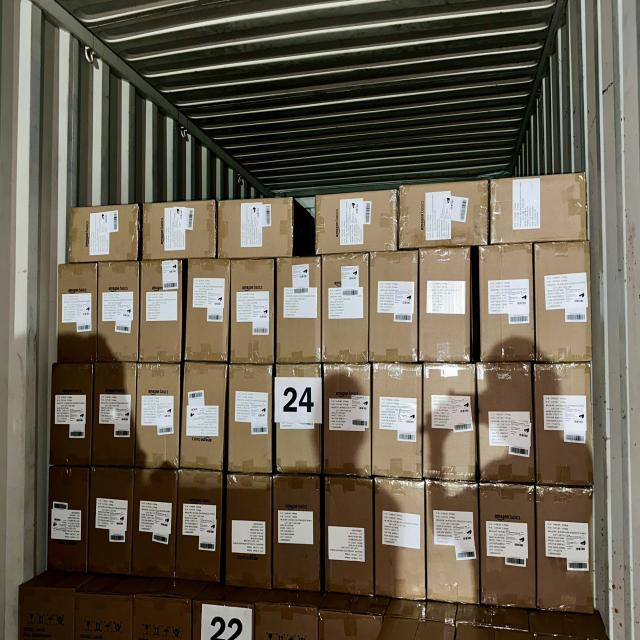Carton: (536, 364, 596, 488), (538, 488, 596, 616), (479, 482, 536, 610), (476, 363, 533, 486), (534, 242, 592, 362), (494, 175, 590, 244), (426, 484, 479, 607), (480, 246, 536, 362), (421, 363, 474, 482), (373, 476, 424, 599), (398, 181, 488, 248), (327, 475, 376, 597), (420, 249, 472, 361), (372, 365, 421, 480), (274, 477, 321, 596), (369, 250, 417, 361), (315, 190, 398, 254), (225, 473, 270, 590), (326, 364, 372, 478), (276, 364, 322, 475), (325, 254, 371, 362), (179, 472, 222, 586), (134, 469, 177, 582), (88, 468, 131, 578), (277, 257, 321, 363), (228, 367, 271, 475), (136, 363, 179, 470), (216, 198, 292, 258), (95, 362, 138, 468), (184, 363, 226, 471), (229, 260, 272, 365), (50, 467, 91, 577), (141, 200, 216, 259), (188, 260, 231, 361), (141, 262, 183, 362), (66, 206, 138, 264), (53, 361, 93, 465), (96, 262, 137, 362), (59, 264, 98, 363)
